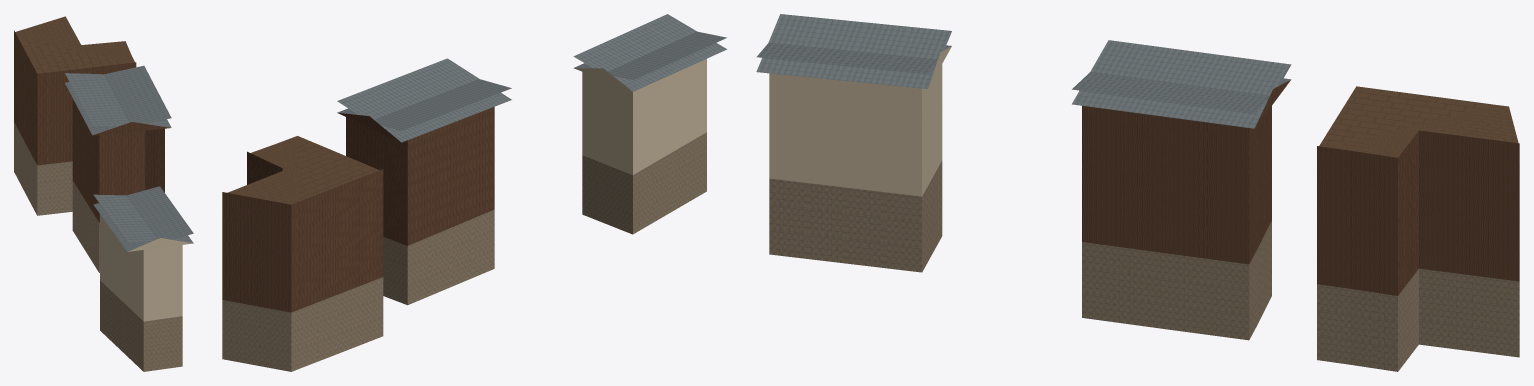
The model's file is bld_c-13_27_481.gltf.
3 views of the same model, side by side, from view 1: azimuth 30°, elevation 25°; view 2: azimuth 150°, elevation 25°; view 3: azimuth 270°, elevation 25° (orthographic). The views are drawn at different scales.
Visible parts, largest first — view 1: bld_c-13_27_481; view 2: bld_c-13_27_481; view 3: bld_c-13_27_481.
Part boxes in pixels (bbox=[...]): bld_c-13_27_481: bbox=[14, 16, 193, 371]; bld_c-13_27_481: bbox=[222, 14, 727, 371]; bld_c-13_27_481: bbox=[756, 14, 1519, 371].
Bounding box in the file's own units: 21.53 × 15.9 × 46.46.
7 materials, 7 textured.
